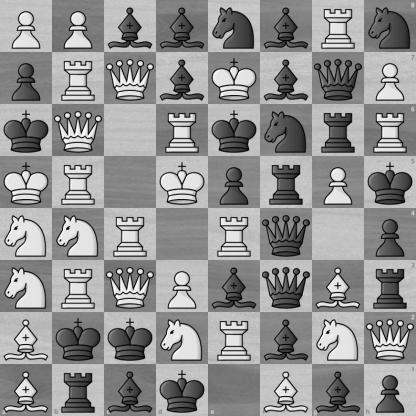B: (0, 364, 52, 416), (260, 364, 312, 416), (1, 313, 52, 364), (313, 261, 364, 312)
K: (1, 157, 52, 208), (157, 157, 208, 208), (209, 53, 260, 104)
N: (1, 209, 52, 260), (1, 261, 52, 312), (53, 209, 104, 260), (157, 313, 208, 364), (313, 313, 364, 364)
P: (364, 52, 416, 104), (1, 1, 52, 52), (53, 1, 104, 52), (157, 261, 208, 312), (313, 157, 364, 208)
Q: (364, 312, 416, 364), (53, 105, 104, 156), (105, 53, 156, 104), (105, 261, 156, 312)
R: (364, 104, 416, 156), (53, 53, 104, 104), (53, 157, 104, 208), (53, 261, 104, 312), (105, 209, 156, 260), (157, 105, 208, 156), (209, 209, 260, 260), (209, 313, 260, 364), (313, 1, 364, 52)
b: (104, 364, 156, 416), (312, 364, 364, 416), (105, 1, 156, 52), (157, 1, 208, 52), (157, 53, 208, 104), (209, 261, 260, 312), (261, 1, 312, 52), (261, 53, 312, 104), (261, 313, 312, 364)
board: (0, 0, 415, 415)
k: (156, 364, 209, 416), (364, 156, 416, 209), (1, 105, 52, 156), (53, 313, 104, 364), (105, 313, 156, 364), (209, 105, 260, 156)
n: (364, 0, 416, 52), (209, 1, 260, 52), (261, 105, 312, 156)
p: (364, 364, 416, 416), (364, 209, 416, 260), (1, 53, 52, 104), (209, 157, 260, 208)
q: (261, 209, 312, 260), (261, 261, 312, 312), (313, 53, 364, 104)
r: (52, 364, 104, 416), (364, 260, 416, 312), (261, 157, 312, 208), (313, 105, 364, 156)
